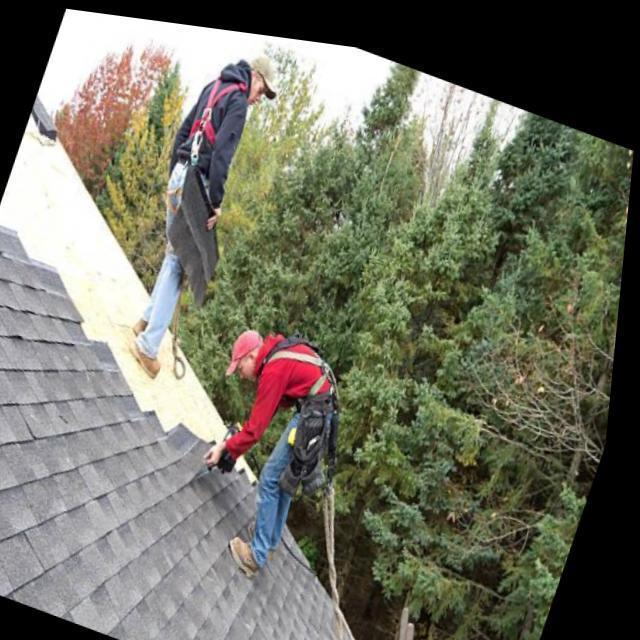Harness: (190, 78, 246, 144), (272, 350, 336, 396)
